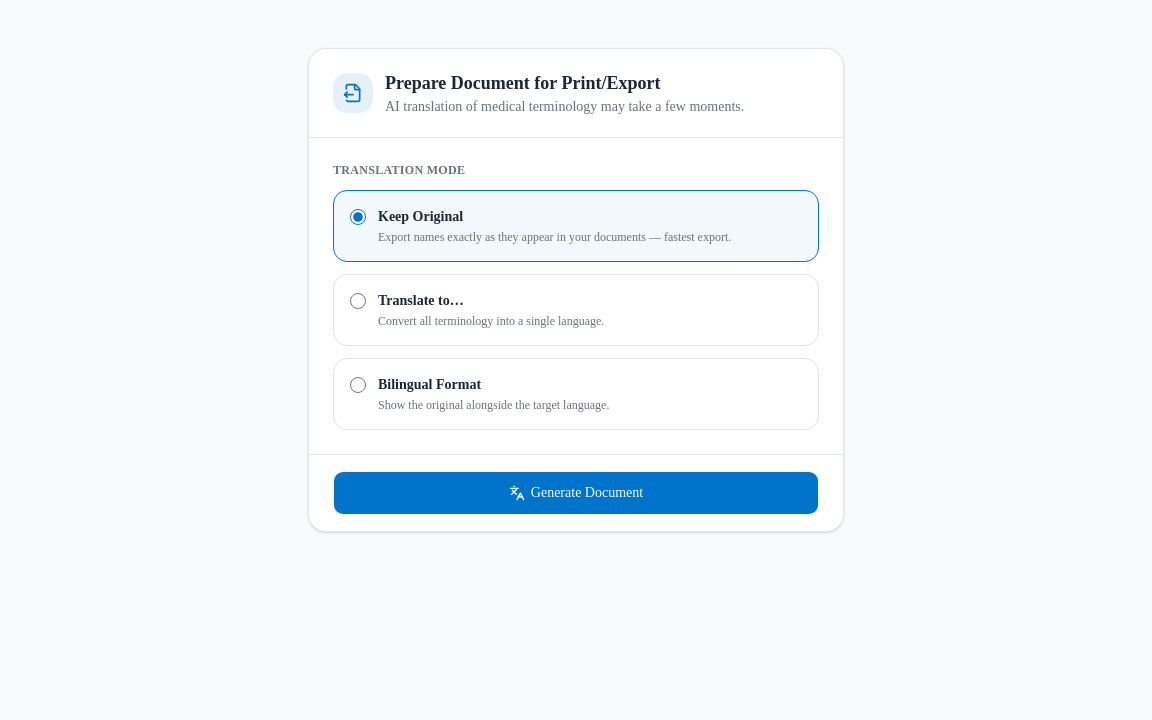
Scenario: PrintSetup › explains that the choice affects names only, not document inclusion
Click the 2nd radio button: (358, 301) x1=350 y1=293 x2=366 y2=309
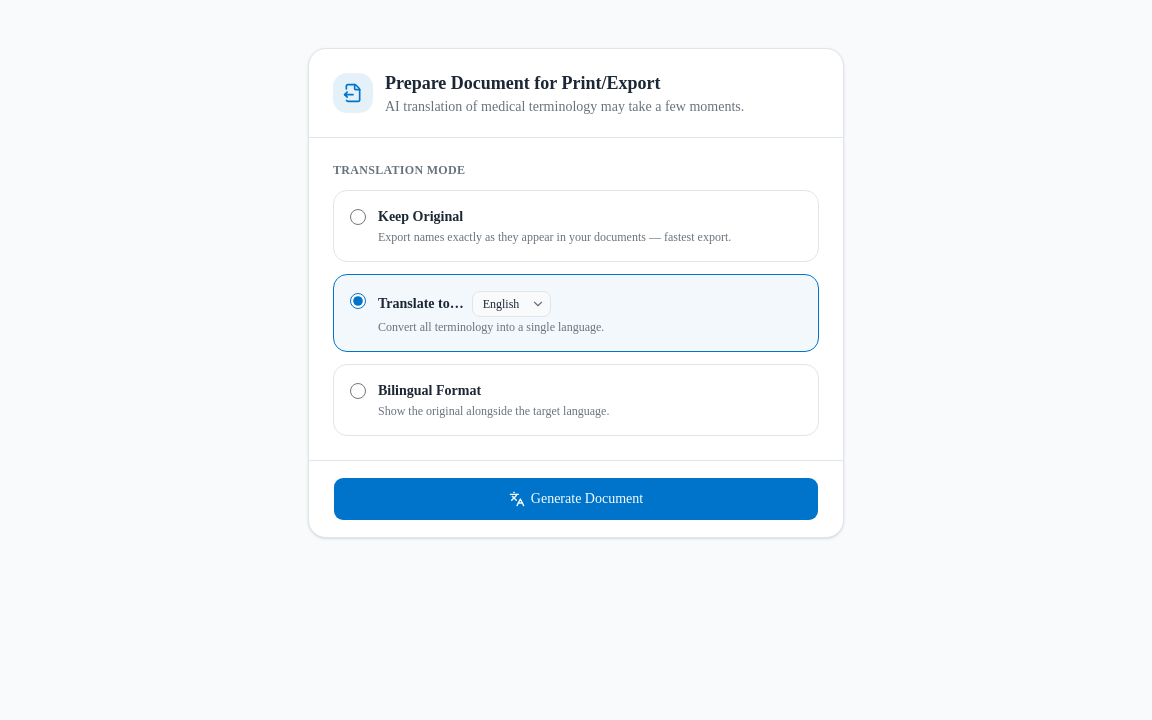
Select "German" in the dropdown: (511, 304) x1=472 y1=291 x2=551 y2=317
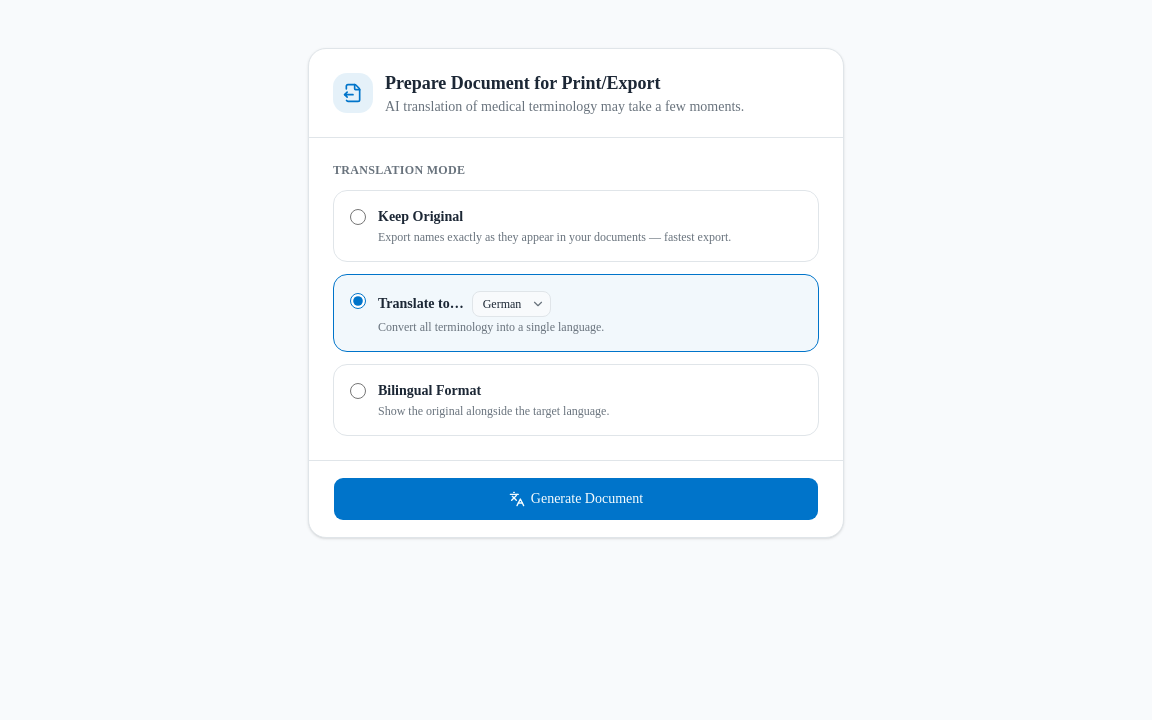
Click the button "Generate Document": (576, 499) x1=333 y1=477 x2=819 y2=521
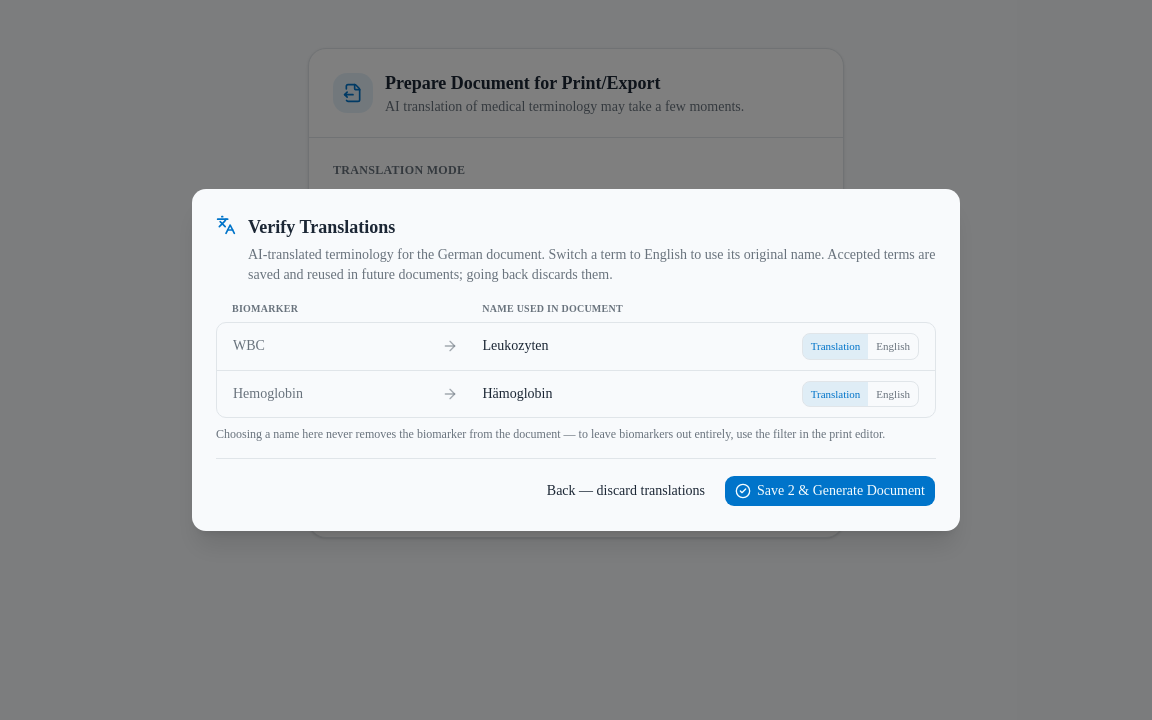
Now the text "use the filter in the print editor" is shown, box x1=216 y1=427 x2=885 y2=441
